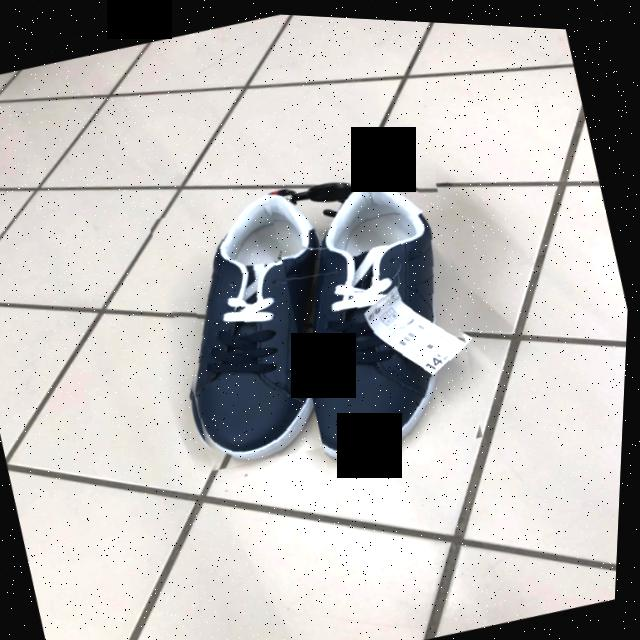shoe: (310, 175, 471, 460), (197, 194, 329, 461)
